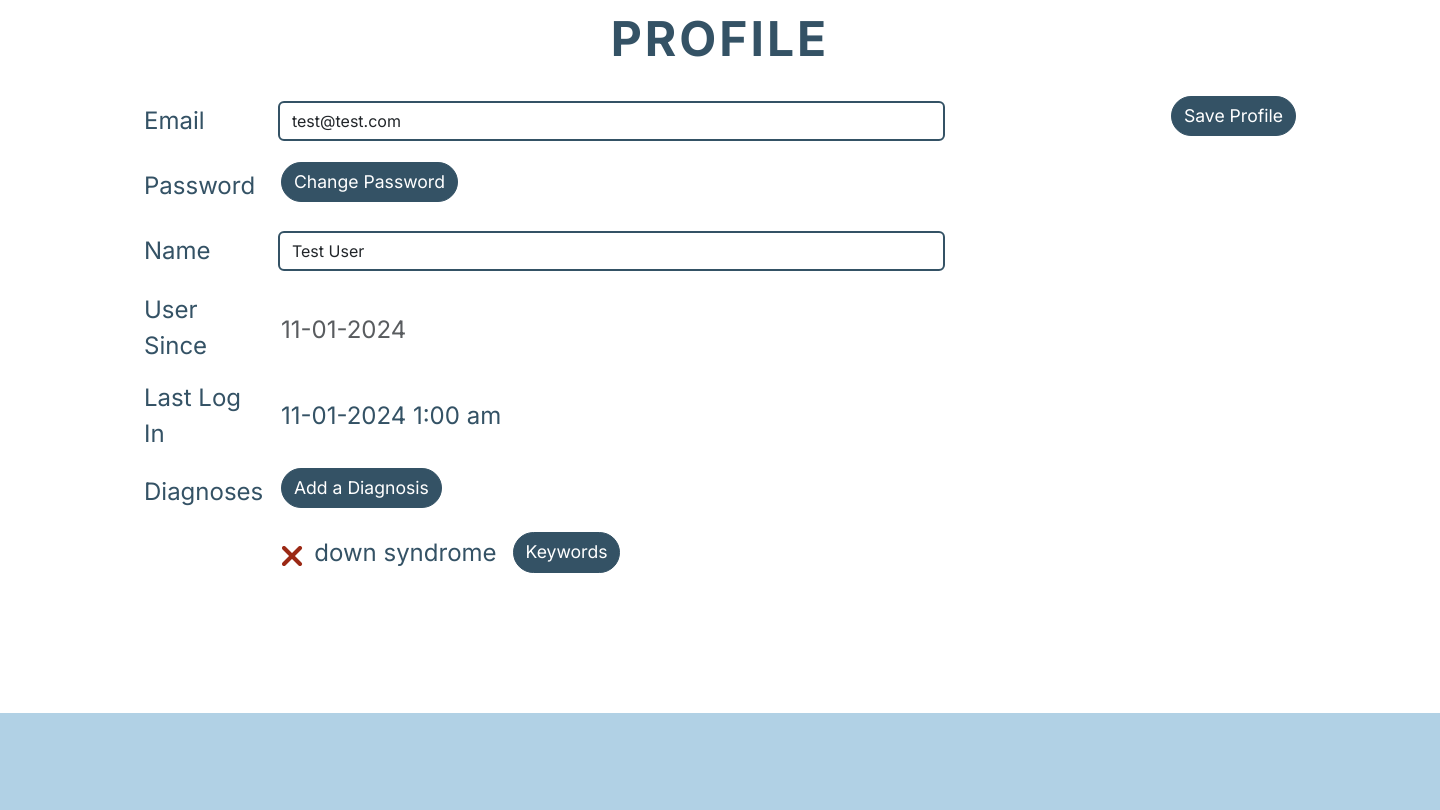
Test case: disconnects a user and diagnosis in the database and store
Click the button with test id "delete-button".
click(294, 557)  # box [282, 539, 306, 575]
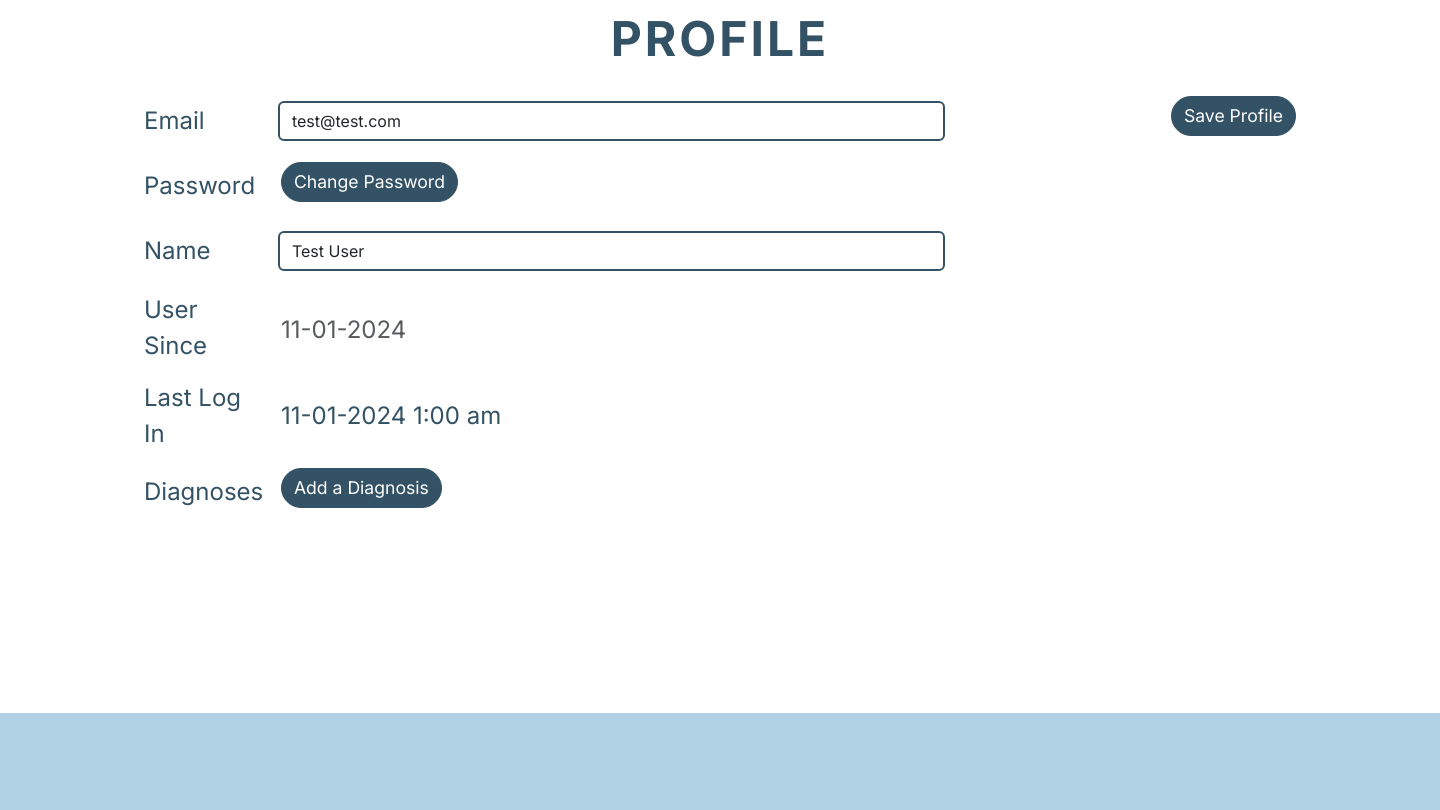
Check: the text "down syndrome" is gone
